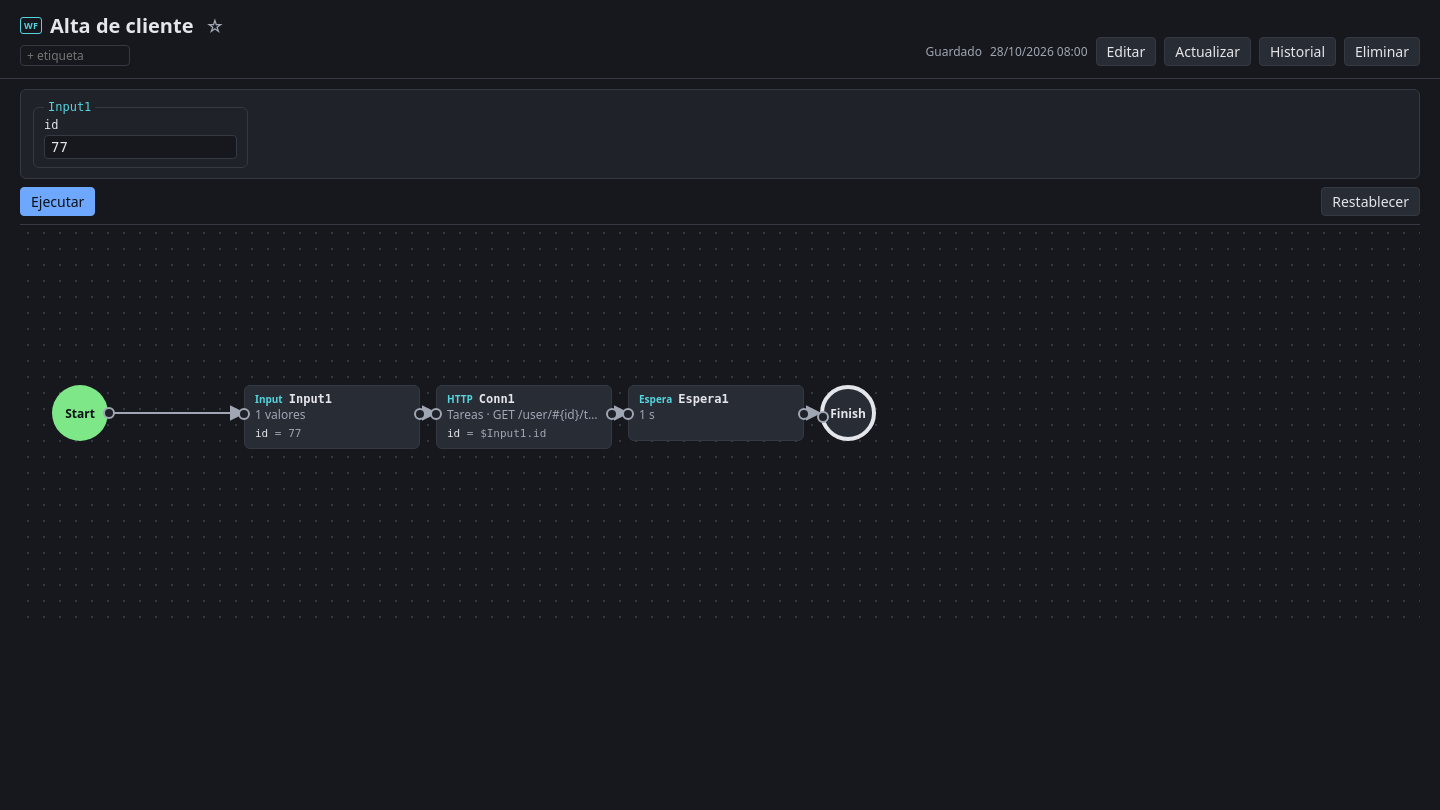
Scenario: notas workflow › W-44 con «Fijar valores de input», en consulta solo se cambian los Input
What coordinates should you click on to do the following:
click the button "HTTP Conn1"
I would click on:
 (524, 417)
Its box is [436,385,612,449].
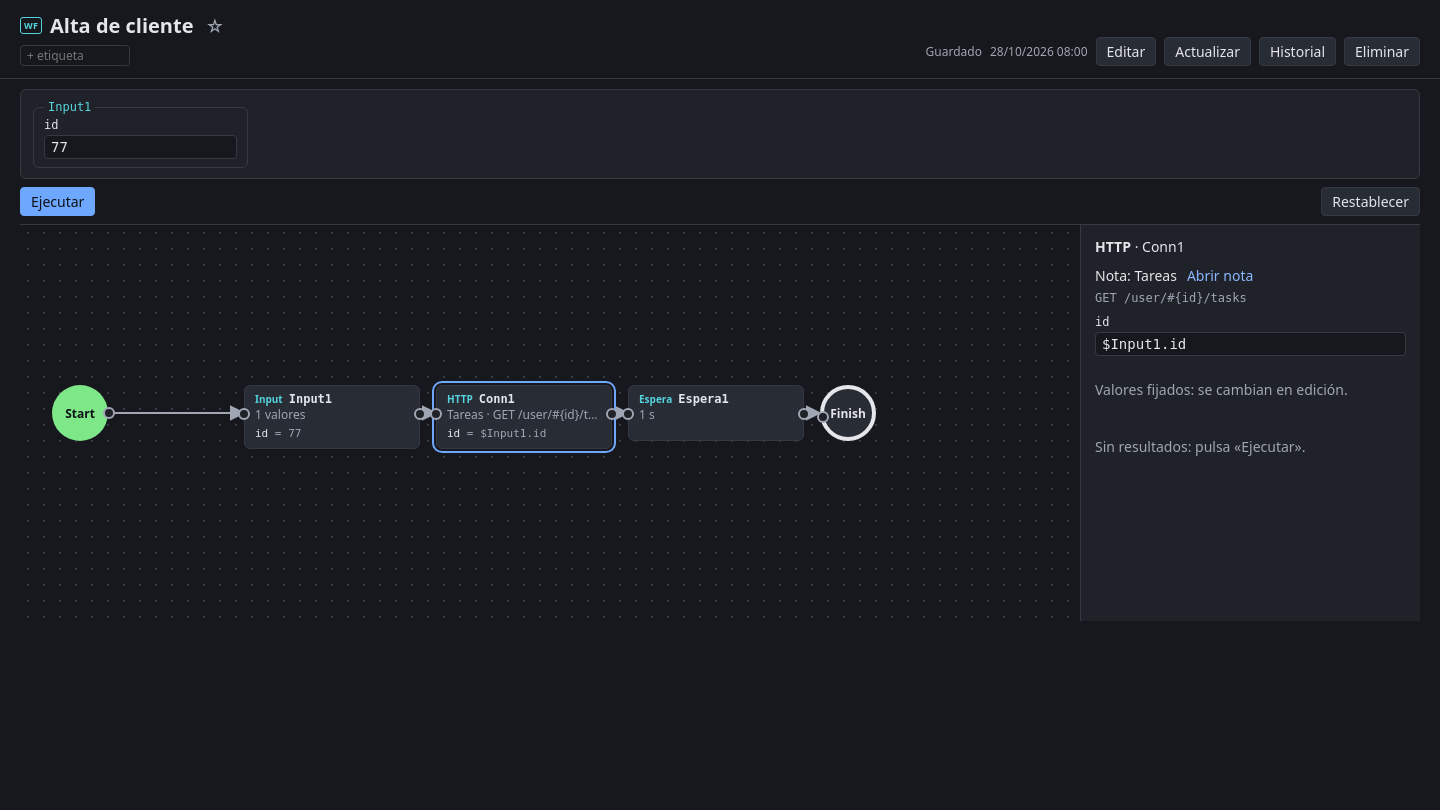
Now the text "Valores fijados: se cambian en edición." is shown, box [1095,380,1348,399]
